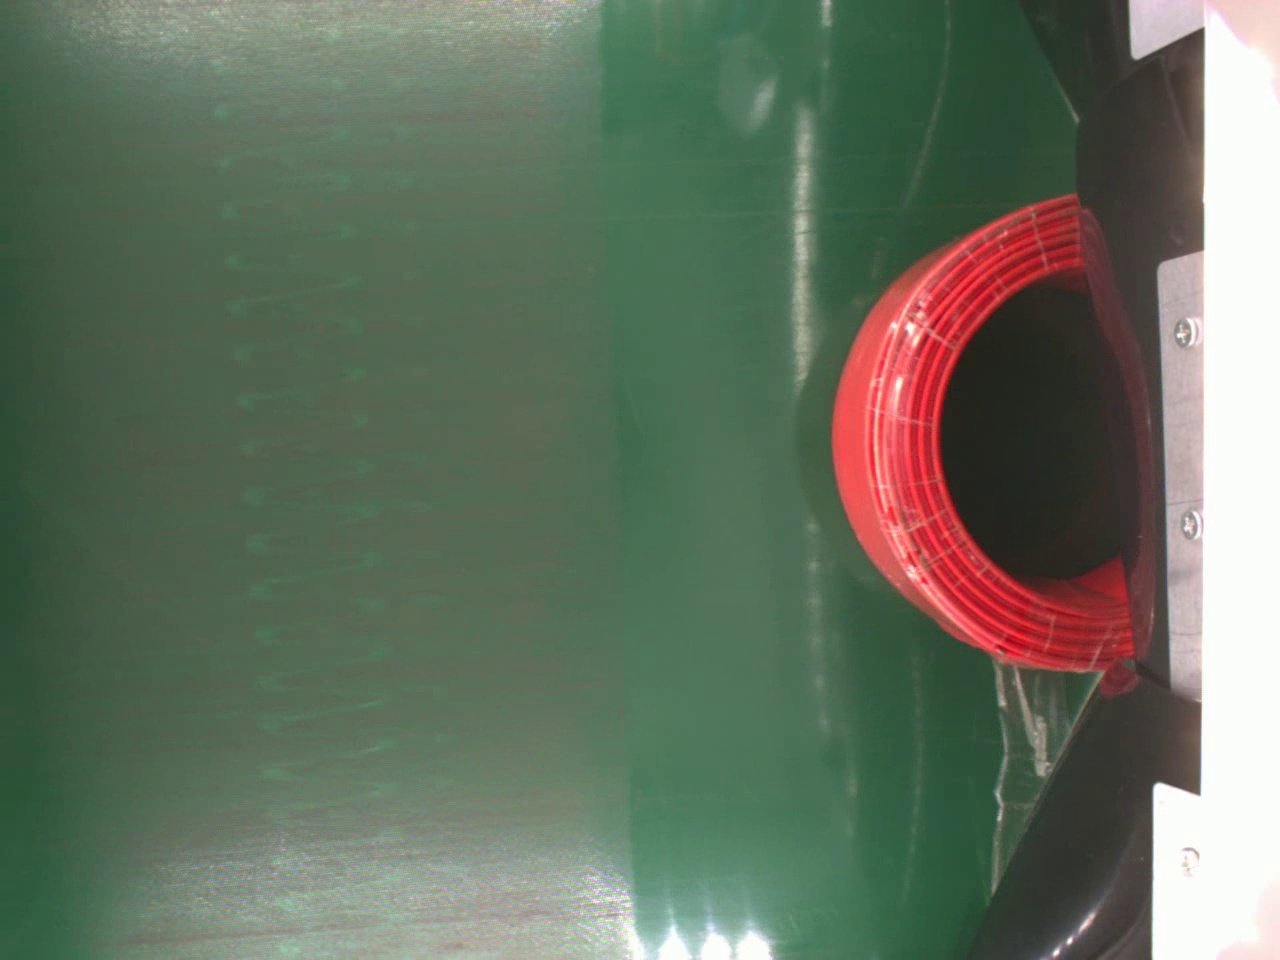red: (831, 192, 1132, 674)
